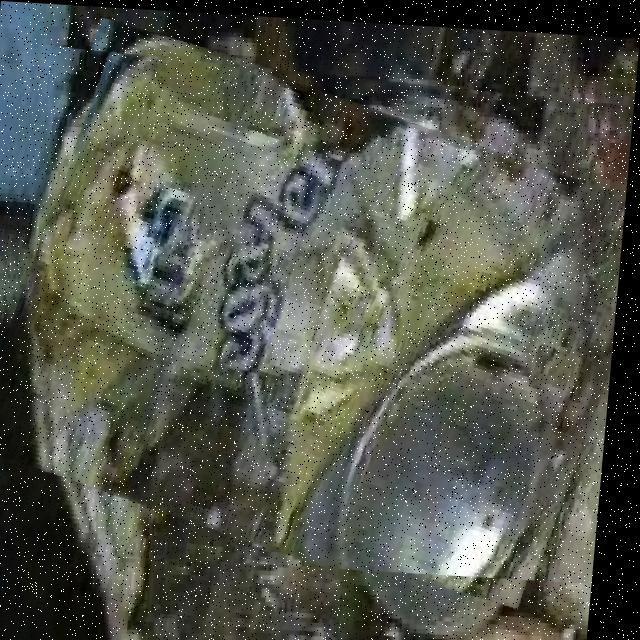can: (0, 42, 637, 575)
